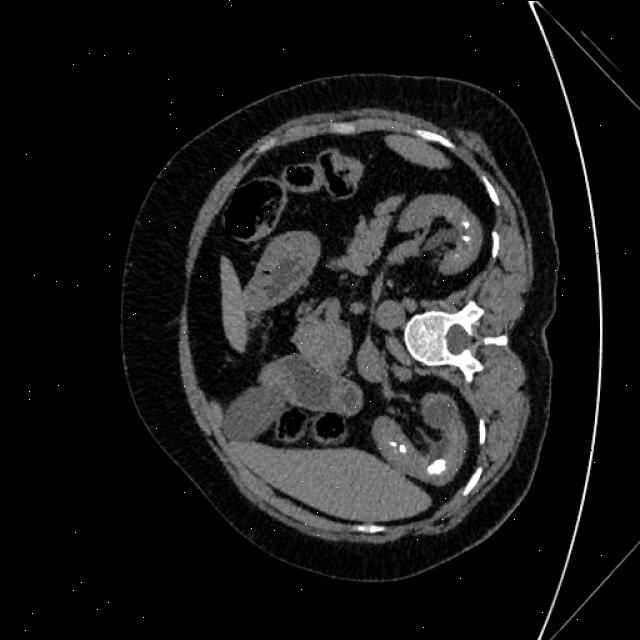kidneystone: (428, 459, 446, 472), (461, 221, 469, 228), (461, 236, 471, 241), (399, 446, 406, 452), (389, 442, 397, 443)
